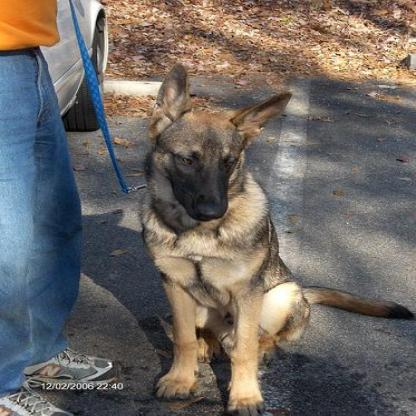dog: (148, 64, 416, 416)
